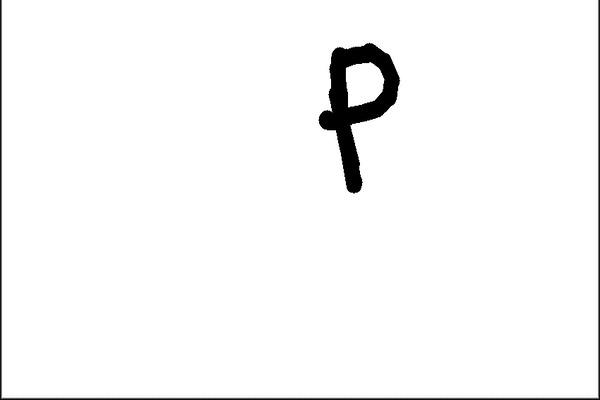P: (312, 32, 408, 195)
